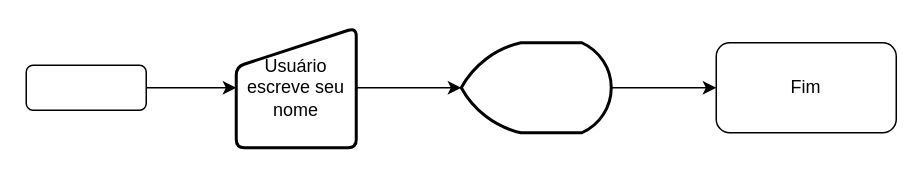
Image size: 923x174. Some labels were removed from this diagram. Each missing label, with the box of its shape:
Exibe o nome do usuário: (459, 40, 612, 134)
Inicio: (25, 64, 146, 110)
